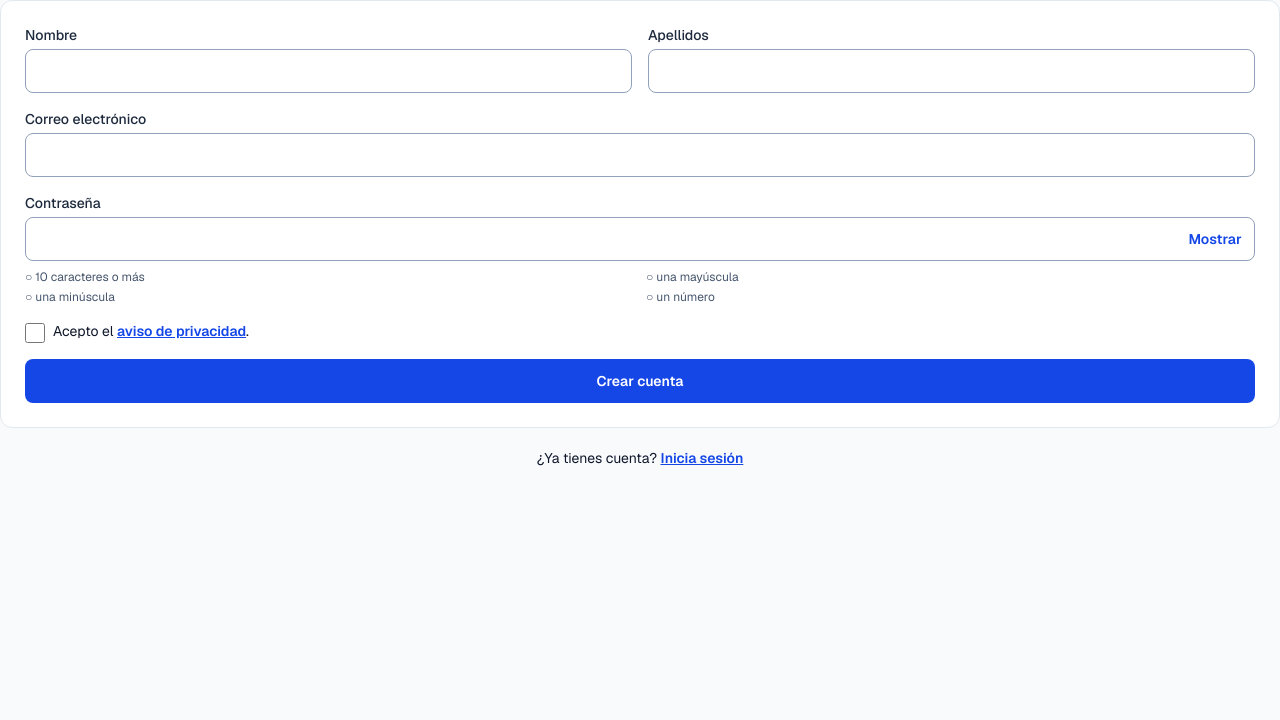
Test: formularios públicos › registro: una contraseña incompleta se explica sin llamar al servidor
This screenshot has width=1280, height=720.
Type "Ana" into the field labelled "Nombre".
click(328, 71); type("Ana")  # box 25,49 -> 632,93
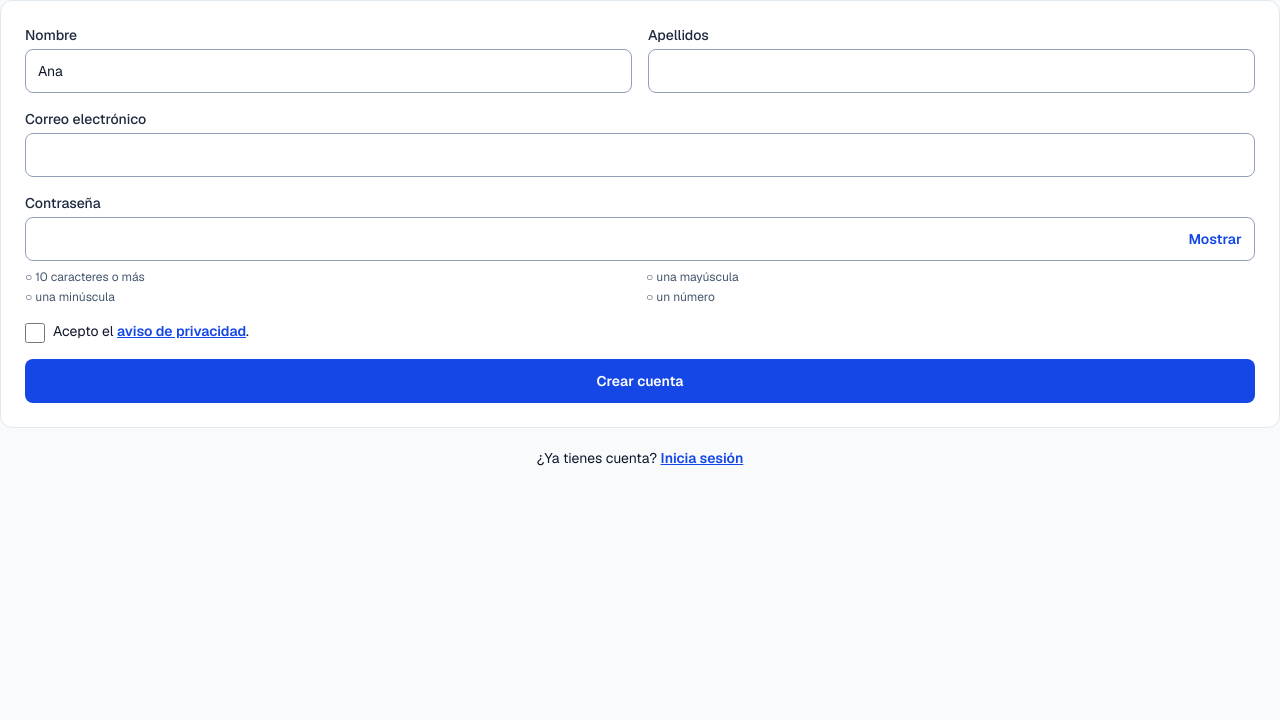
Type "Prueba" into the field labelled "Apellidos".
click(952, 71); type("Prueba")  # box 648,49 -> 1255,93
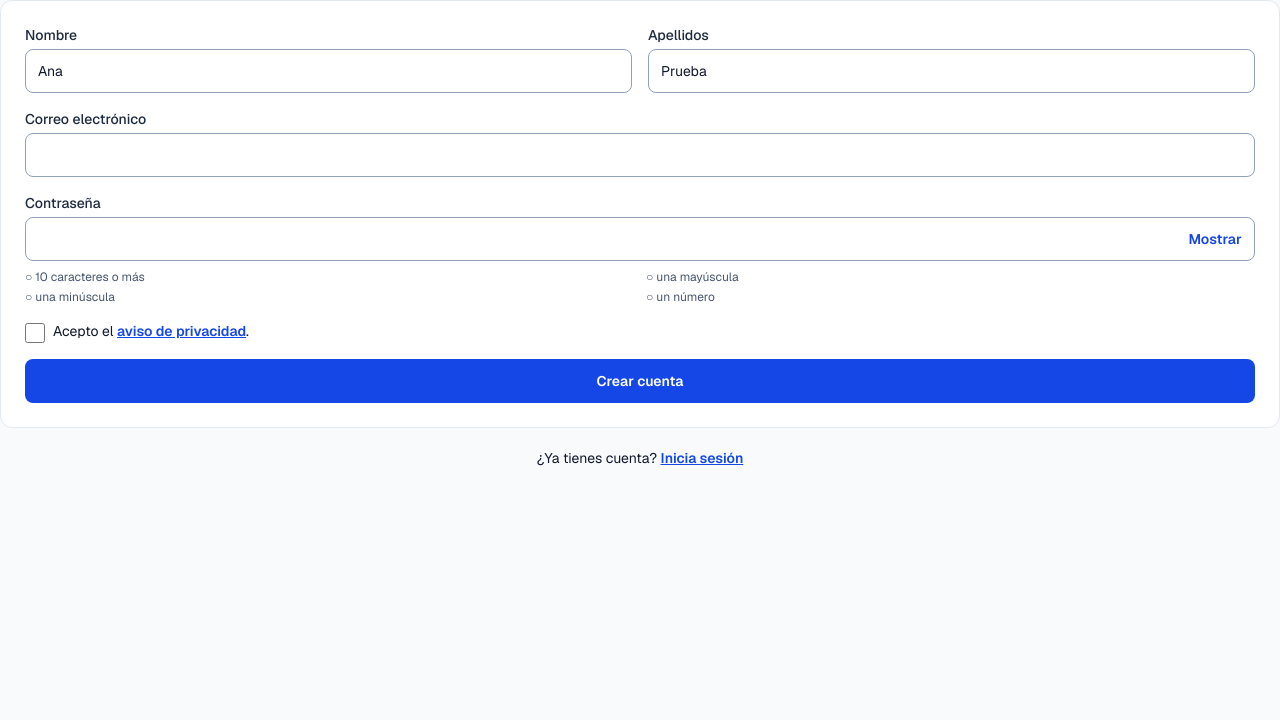
Type "ana@iinicia.test" into the field labelled "Correo electrónico".
click(640, 155); type("ana@iinicia.test")  # box 25,133 -> 1255,177
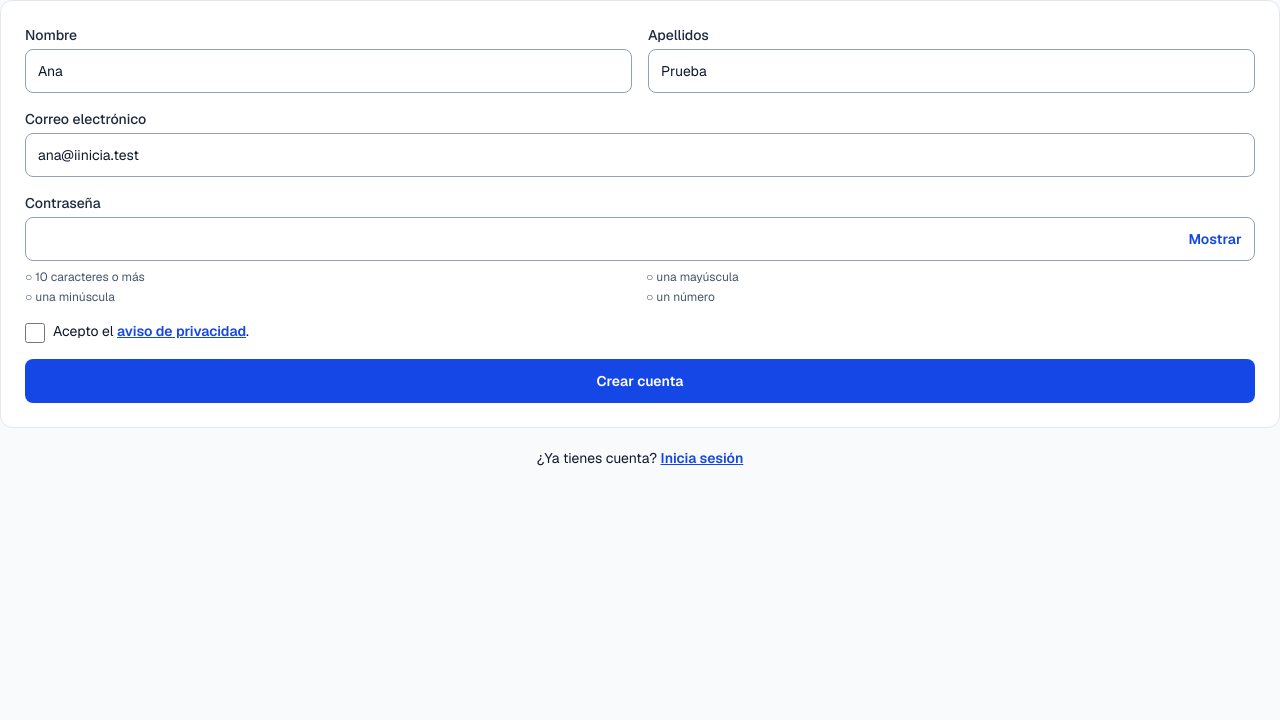
Type "sinmayuscula1" into the password field labelled "Contraseña".
click(640, 239); type("sinmayuscula1")  # box 25,217 -> 1255,261
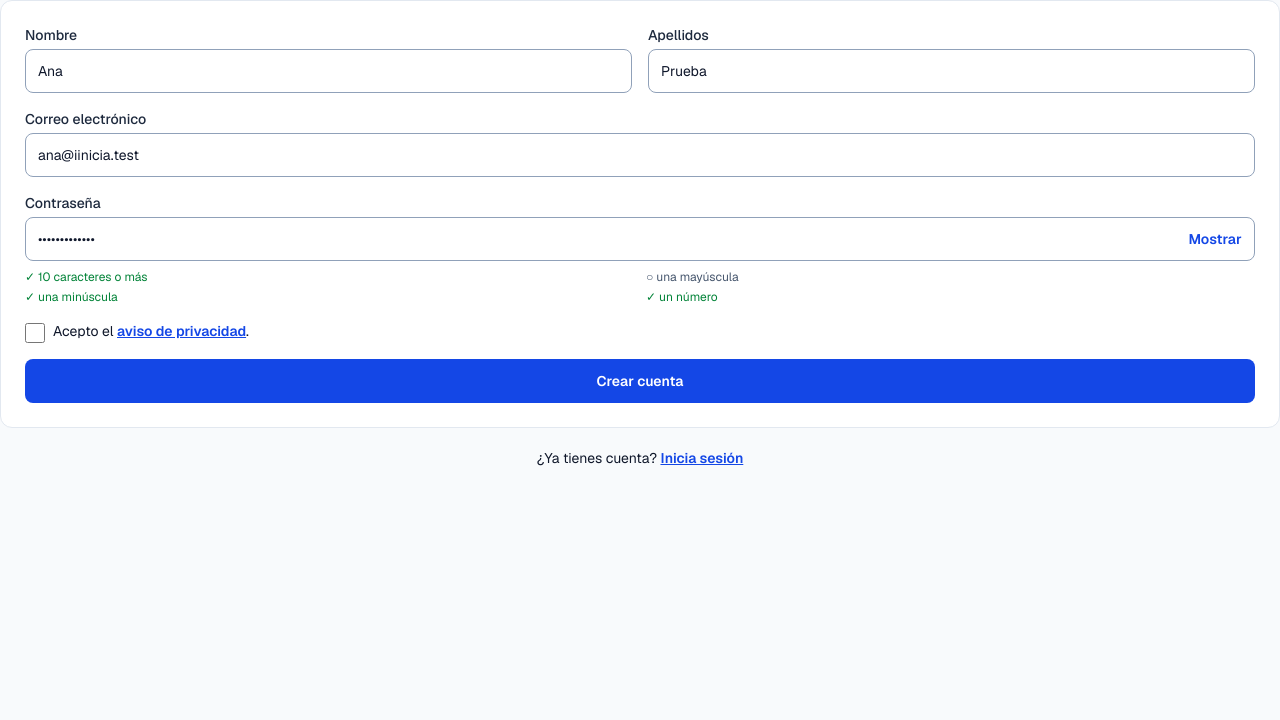
Click the checkbox.
click(35, 333)  # box 25,323 -> 45,343
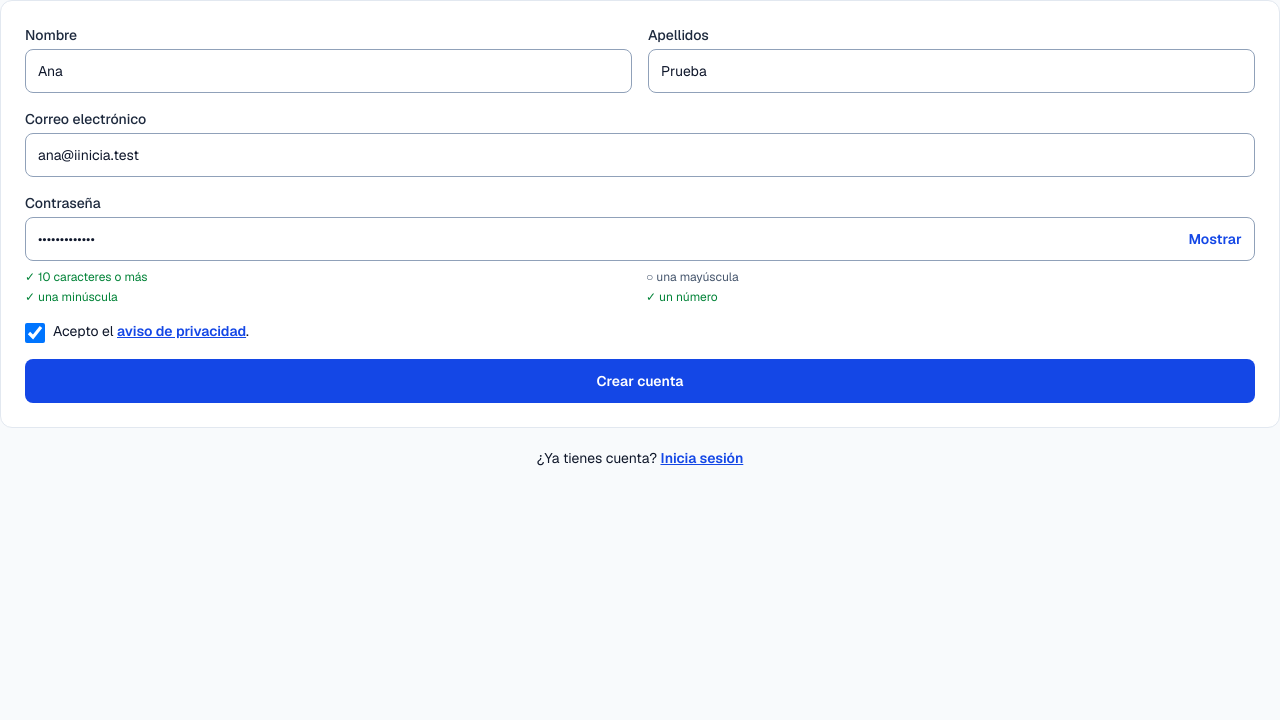
Submit the form named "Crear cuenta", box 0,0 -> 1279,428
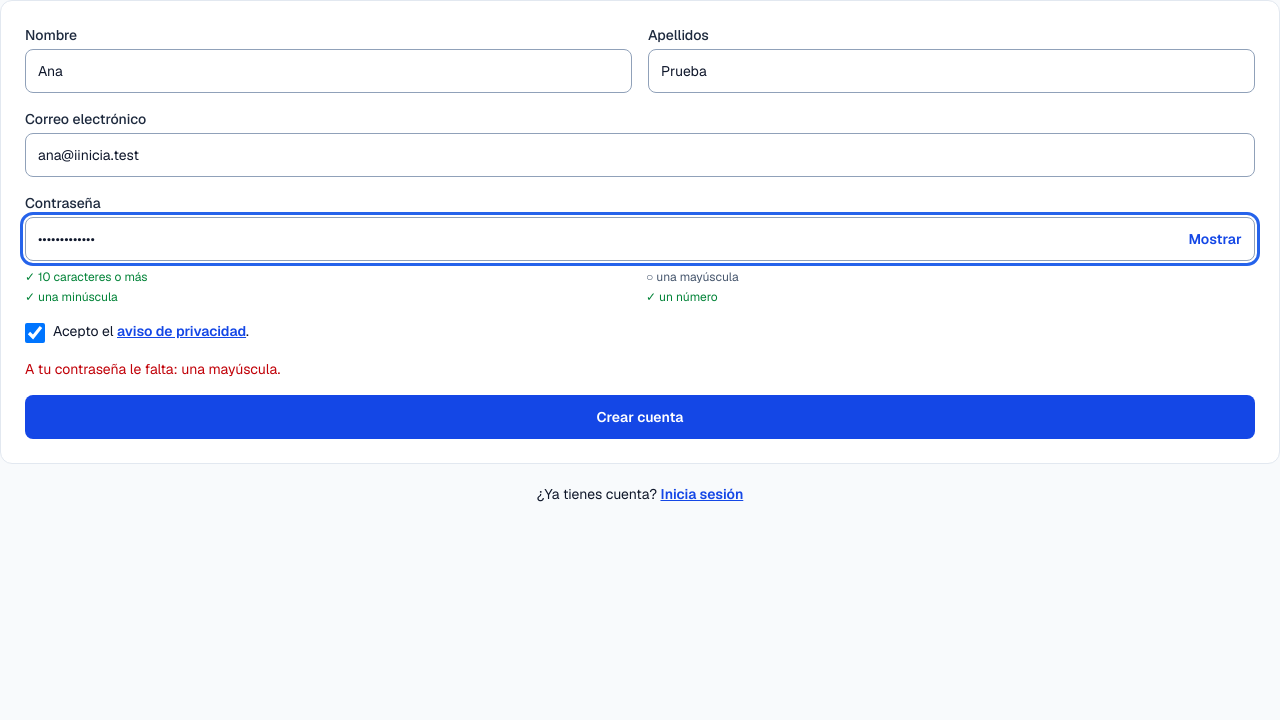
Result: the message reads "A tu contraseña le falta: una mayúscula." at 25,360 -> 280,378
